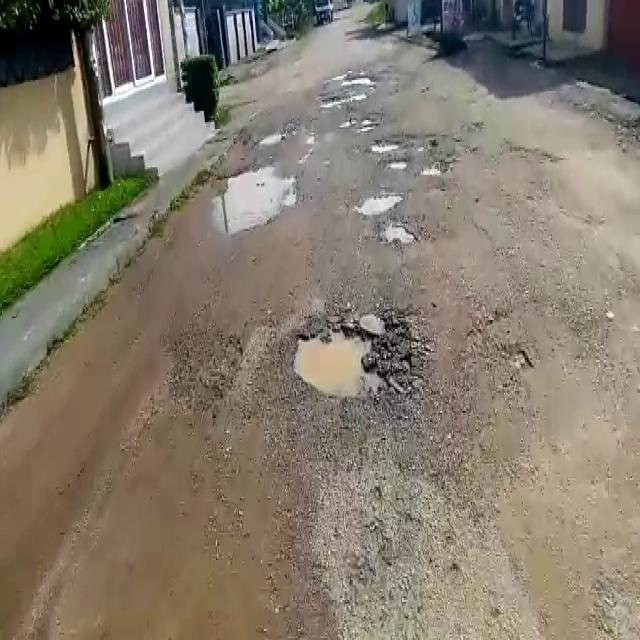Pothole: (285, 311, 419, 404), (213, 162, 298, 234), (375, 214, 426, 248), (350, 190, 403, 218), (340, 112, 380, 131), (366, 136, 406, 152), (255, 131, 288, 147), (417, 163, 448, 179), (384, 159, 408, 171)
